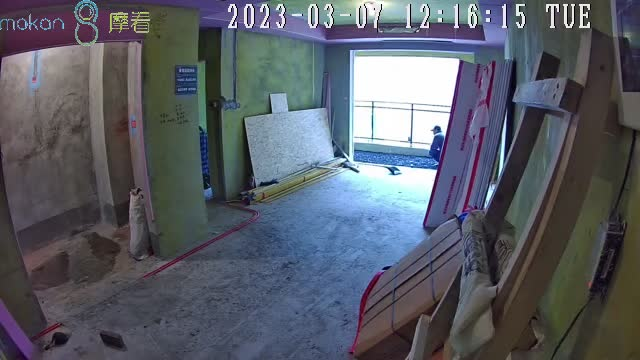people: (429, 125, 450, 167)
window: (353, 49, 473, 153)
